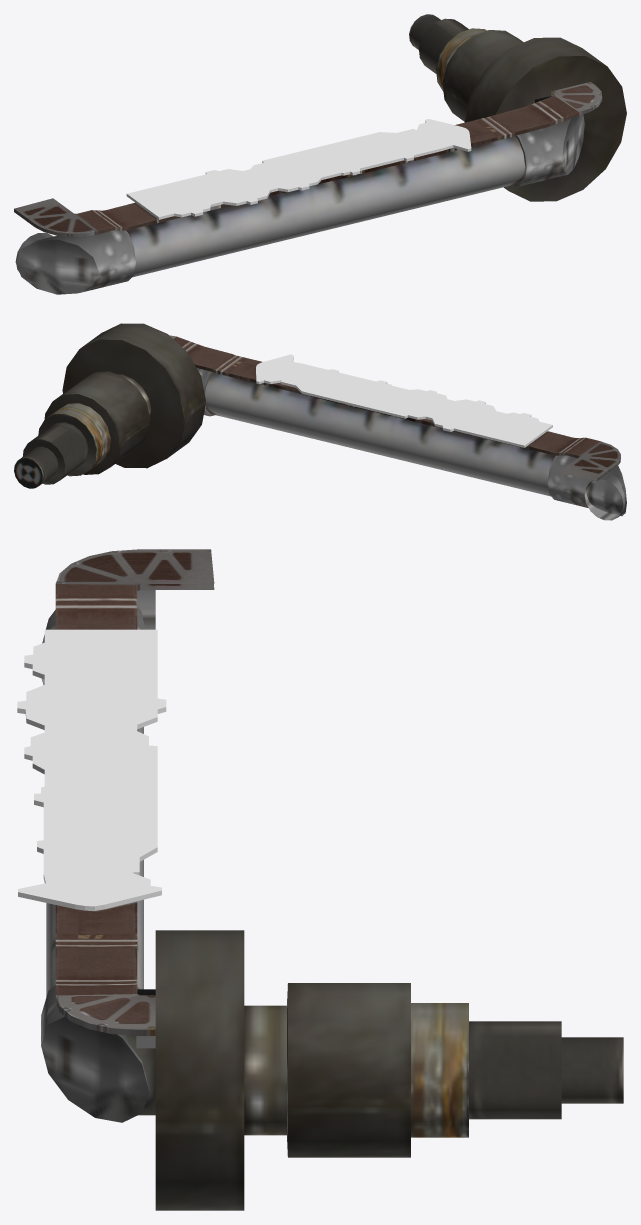
The model's file is arm_upper_link.dae.
3 renders of one model, top to bottom at view 1: azimuth 30°, elevation 25°; view 2: azimuth 150°, elevation 25°; view 3: azimuth 270°, elevation 25°, orthographic. The views are drawn at different scales.
Parts seen in each view (by area): view 1: arm_upper_link; view 2: arm_upper_link; view 3: arm_upper_link.
Boxes of the visible parts, box(x1,y1,x2,y2) form: arm_upper_link: box(14, 14, 626, 294); arm_upper_link: box(14, 323, 626, 520); arm_upper_link: box(17, 549, 623, 1210).
Bounding box in the file's own units: 0.9723 × 0.4722 × 0.2186.
4 materials, 3 textured.
